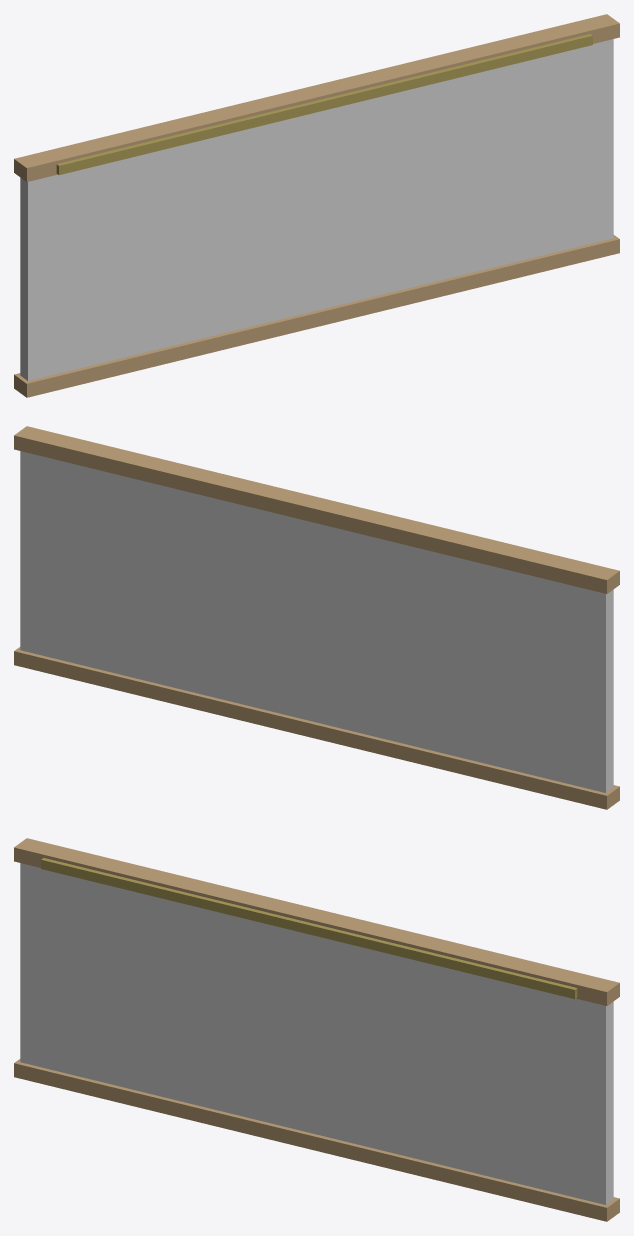
Rendered from soc_banner.fbx.
3 views of the same model, one above another, from view 1: azimuth 30°, elevation 25°; view 2: azimuth 150°, elevation 25°; view 3: azimuth 330°, elevation 25° (orthographic).
Visible parts, largest first — view 1: banner_1, trim_1, glow_a_1; view 2: banner_1, trim_1; view 3: banner_1, trim_1, glow_a_1.
Part boxes in pixels (x1=…): banner_1: x1=20, y1=39, x2=613, y2=380; trim_1: x1=14, y1=14, x2=619, y2=397; glow_a_1: x1=56, y1=34, x2=592, y2=175; banner_1: x1=20, y1=451, x2=613, y2=792; trim_1: x1=14, y1=426, x2=619, y2=809; banner_1: x1=20, y1=863, x2=613, y2=1204; trim_1: x1=14, y1=838, x2=619, y2=1221; glow_a_1: x1=41, y1=858, x2=577, y2=999.
Bounding box in the file's own units: 0.8 × 0.296 × 0.036.
